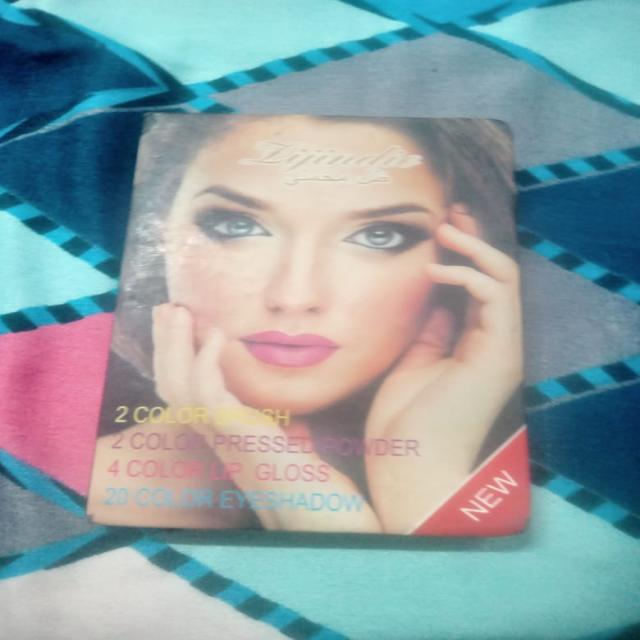kajal: (71, 102, 566, 546)
